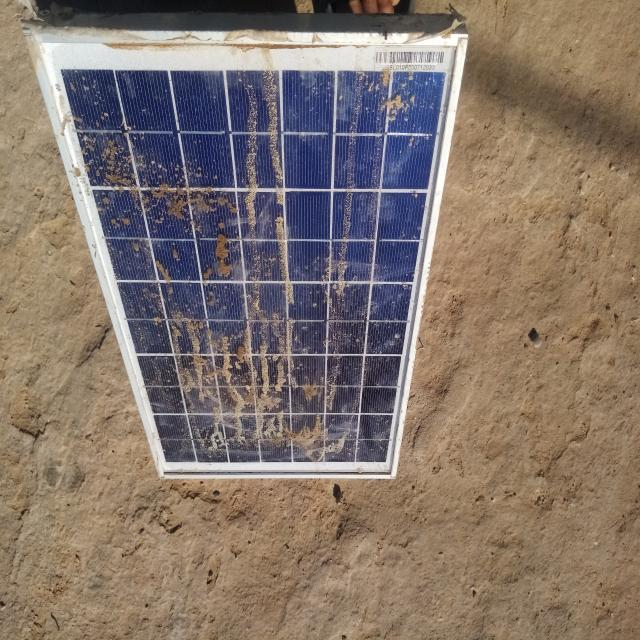faulty: (29, 29, 465, 476)
